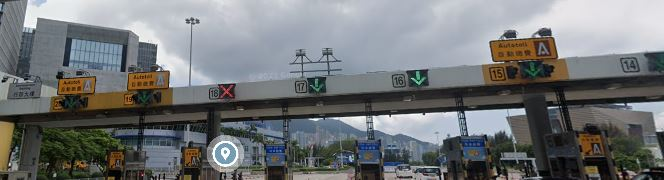Autotoll: (488, 30, 557, 64), (123, 67, 173, 92), (56, 77, 101, 97)
